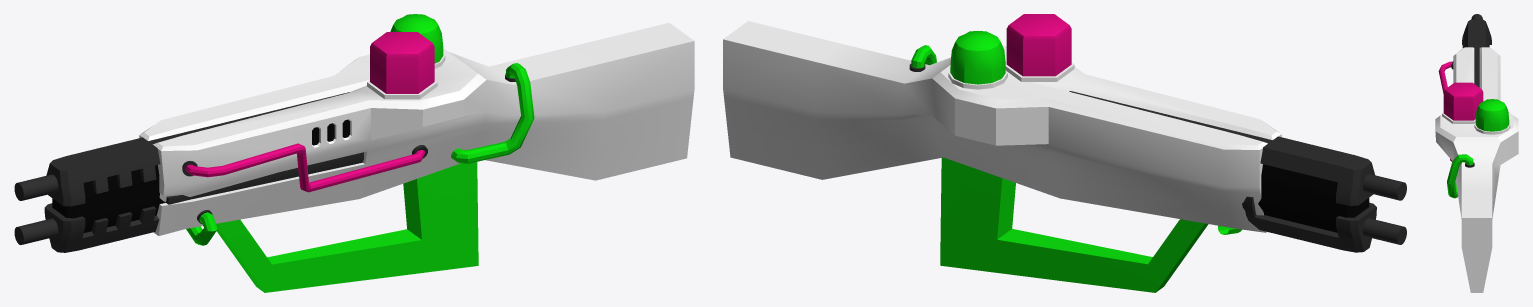
The model's file is GGJ_RailShooter_Gun (1).fbx.
3 renders of one model, left to right at view 1: azimuth 30°, elevation 25°; view 2: azimuth 150°, elevation 25°; view 3: azimuth 270°, elevation 25°, orthographic. The views are drawn at different scales.
Visible parts, largest first — view 1: Cylinder.002; view 2: Cylinder.002; view 3: Cylinder.002.
Part boxes in pixels (x1,y1,x2,y2): Cylinder.002: (14,14,694,292); Cylinder.002: (723,14,1406,292); Cylinder.002: (1435,14,1518,292).
Size of the model in its own units: 1112 by 395 by 198.
